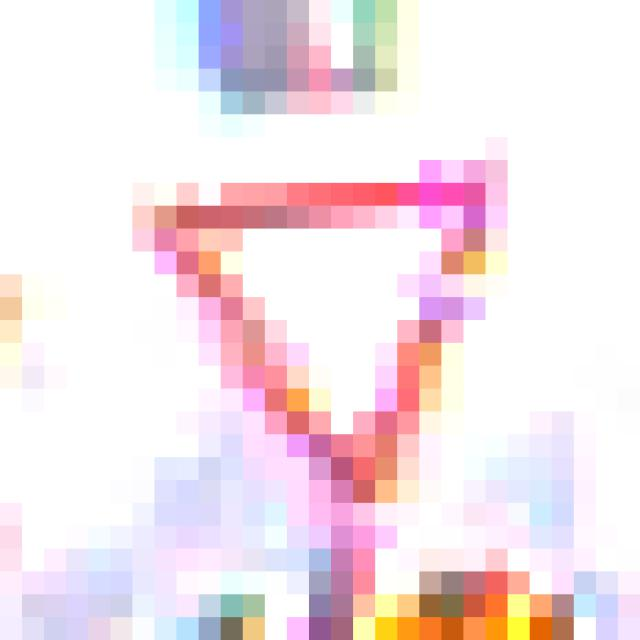Give Way: (134, 115, 531, 527)
